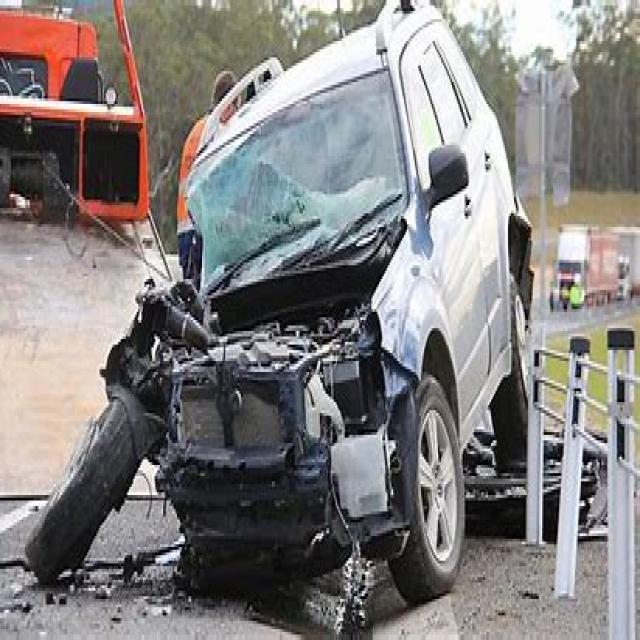Accident: (64, 97, 507, 618)
